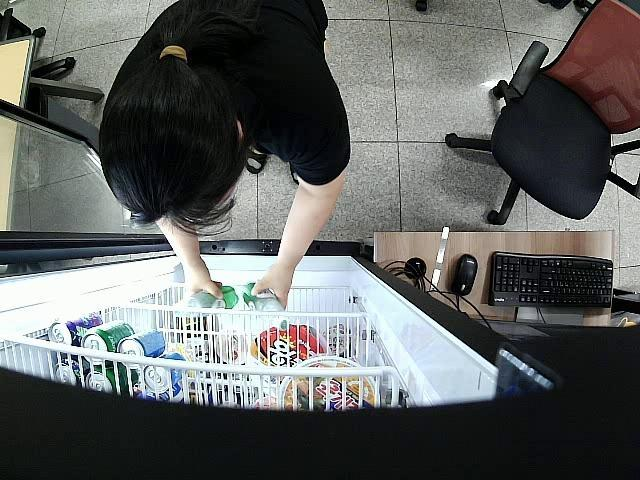18_trevi: (184, 283, 240, 312), (246, 274, 278, 310)
